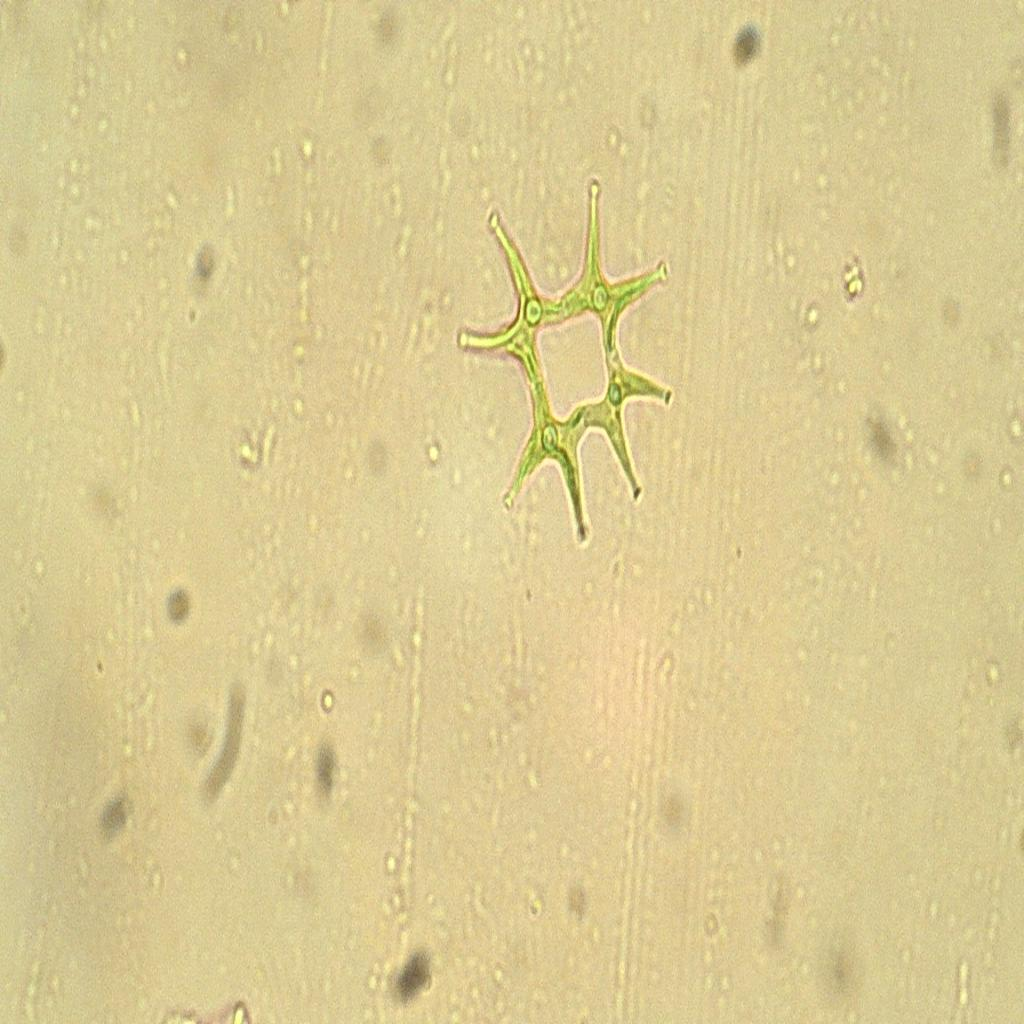Pediastrum_75O: (447, 169, 677, 558)
